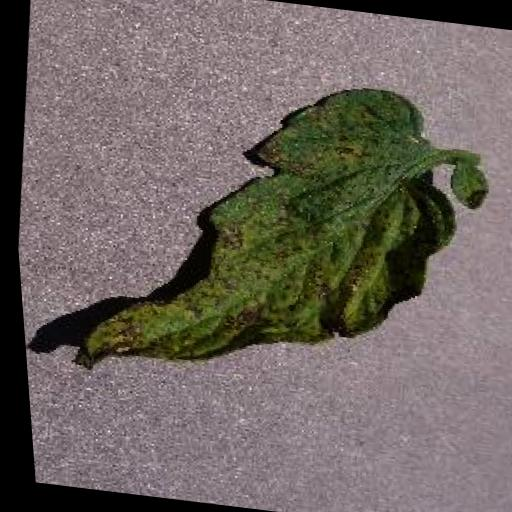Septoria: (46, 50, 477, 415)
